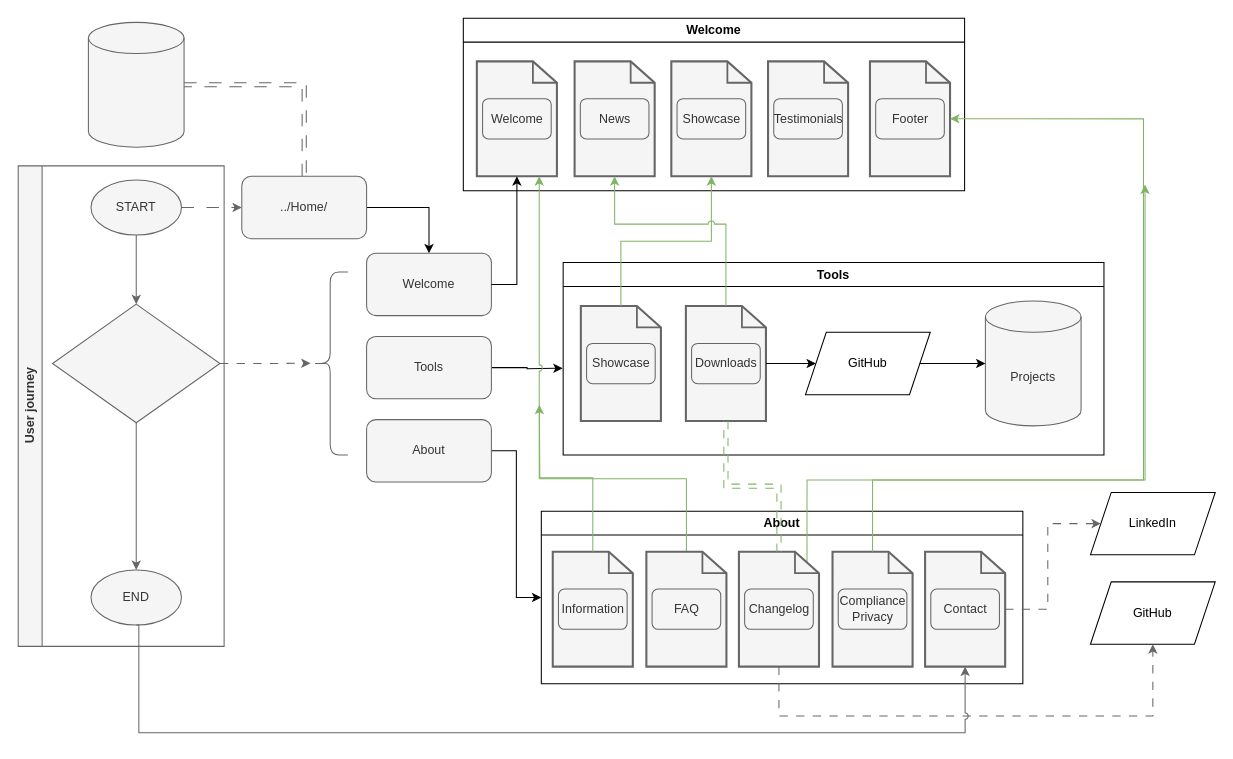
Image size: 1233x759. Some labels were removed from this diagram. The centre of each missing label's shape, as x and y in pixels:
Choose: point (135, 363)
Main: point (135, 84)
